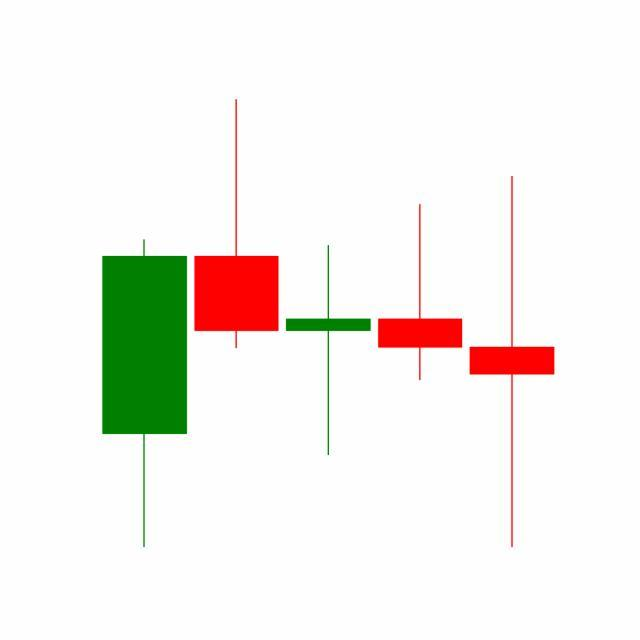Spinning Top: (466, 173, 559, 552)
